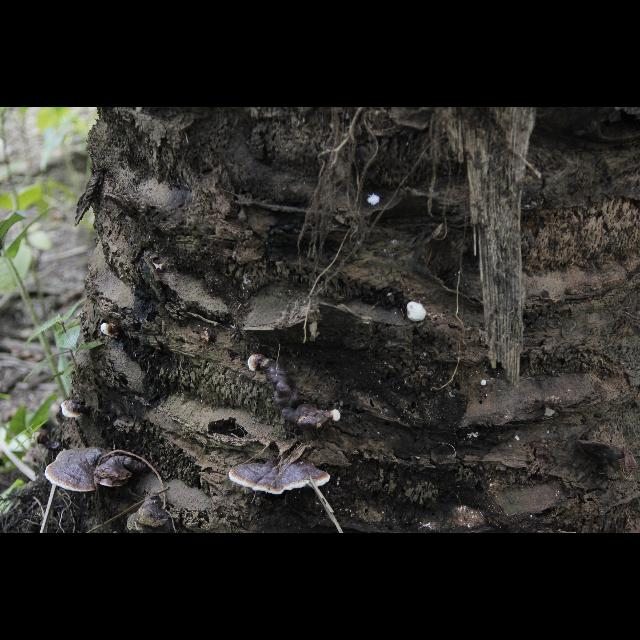ganoderma: (264, 355, 331, 433), (230, 459, 332, 497), (46, 448, 115, 494), (94, 457, 149, 489), (63, 401, 92, 420)
primordium: (407, 302, 428, 323), (102, 324, 122, 340), (249, 355, 263, 374), (33, 434, 48, 447), (332, 410, 342, 423), (481, 381, 487, 388)
